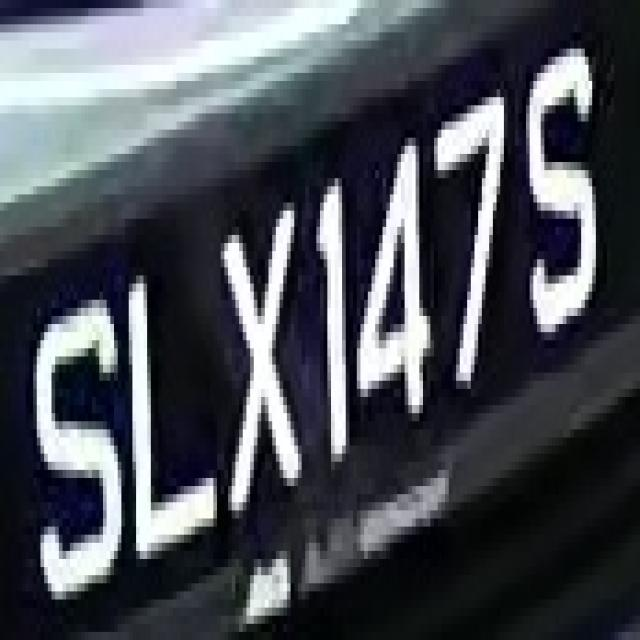1: (309, 138, 349, 502)
4: (338, 121, 442, 478)
7: (416, 89, 515, 429)
L: (117, 251, 220, 575)
S: (26, 276, 125, 608), (508, 32, 600, 364)
X: (210, 162, 305, 510)
